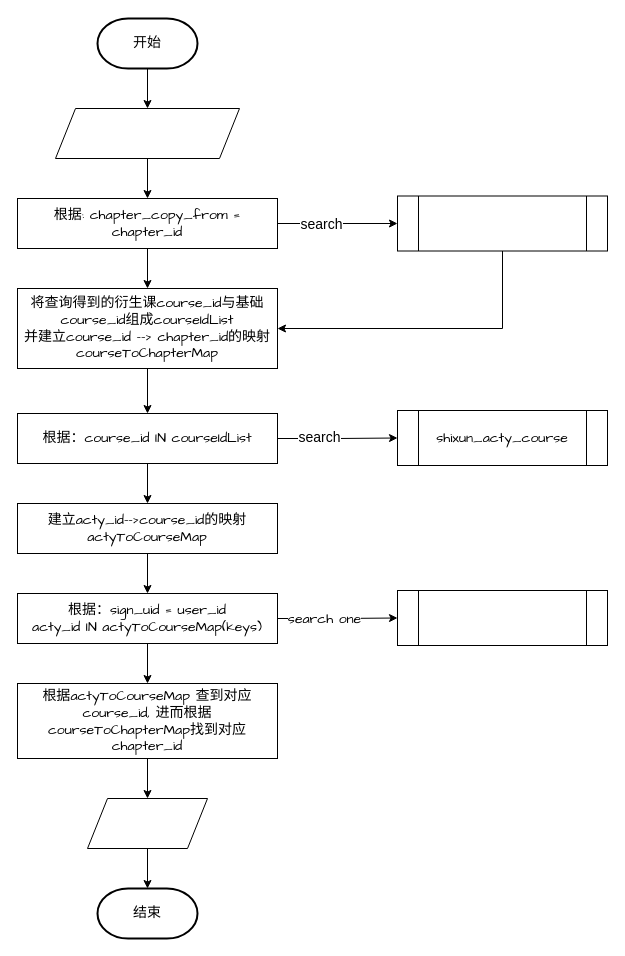
This 625x956 diagram has some shape labels left out. Each missing label, with the centre of its shape:
chapter_id: point 147,823
course_id、chapter_id、user_id: point 147,133
shixun_acty_sign: point 502,618
shixun_course_chapter: point 502,223
